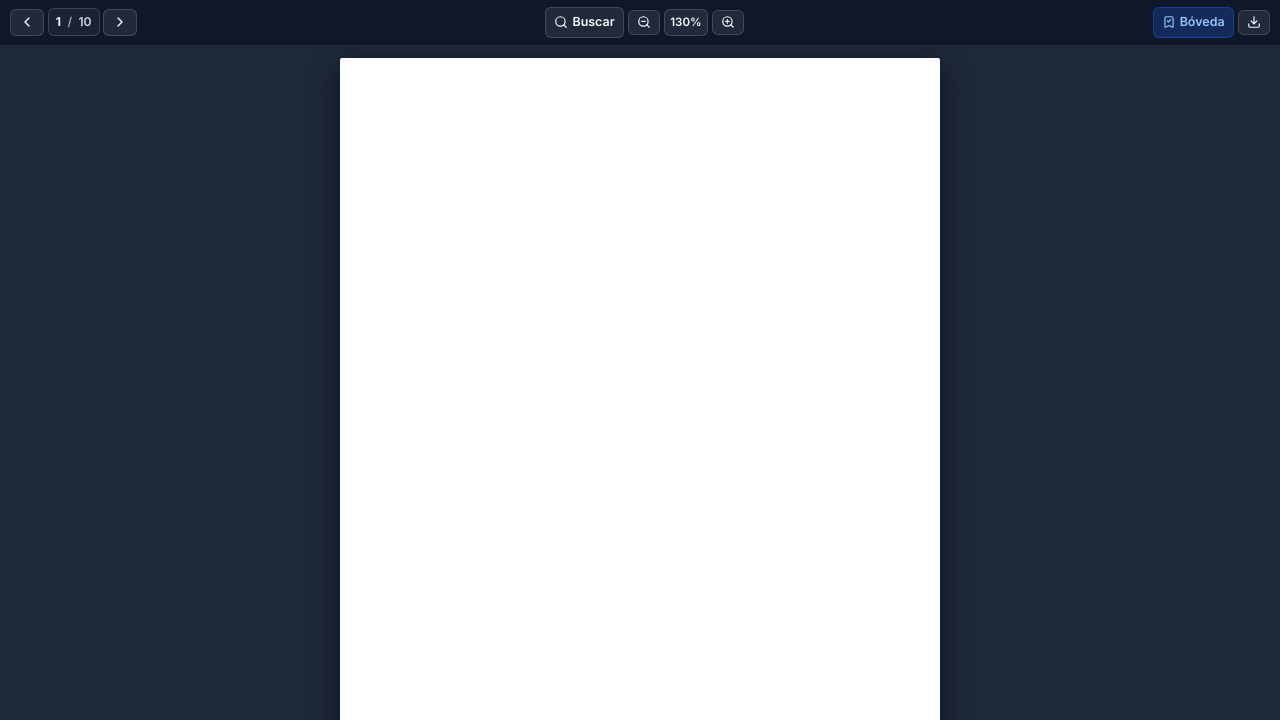
Test: PdfViewer - Lector Comercial con Búsqueda y Zoom › permite abrir el popover para ir directamente a un número de página
Click the button titled "Clic para ir directamente a un número de página": point(74, 22) [48,8,100,36]
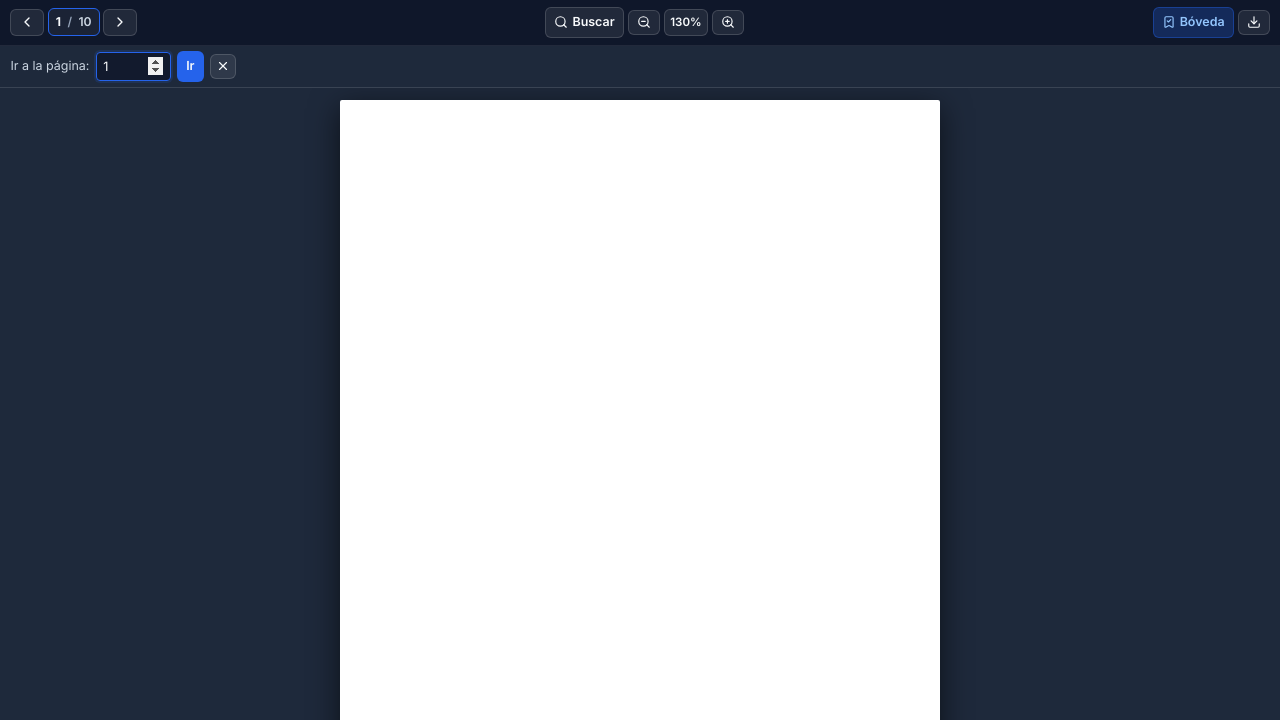
Expected: the number field with placeholder "1 - 10" is shown, [96,52,171,81]
